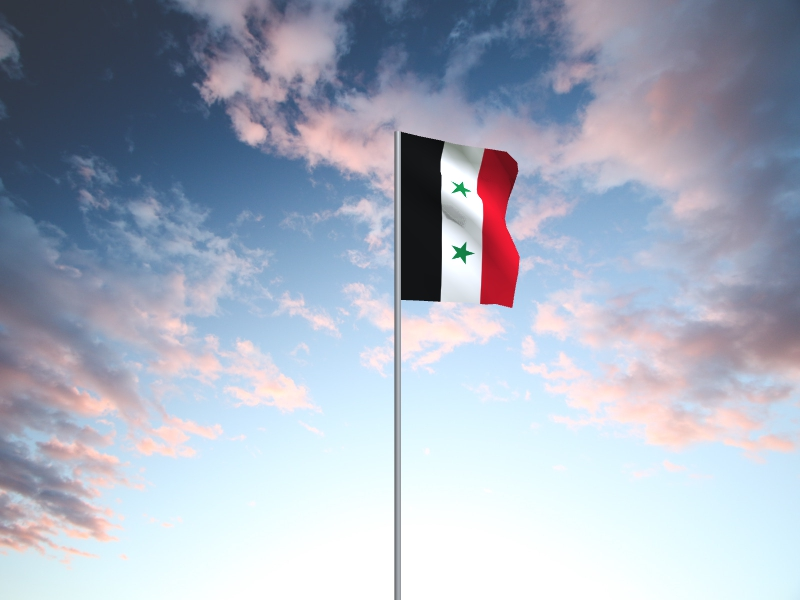sy: (401, 133, 520, 310)
